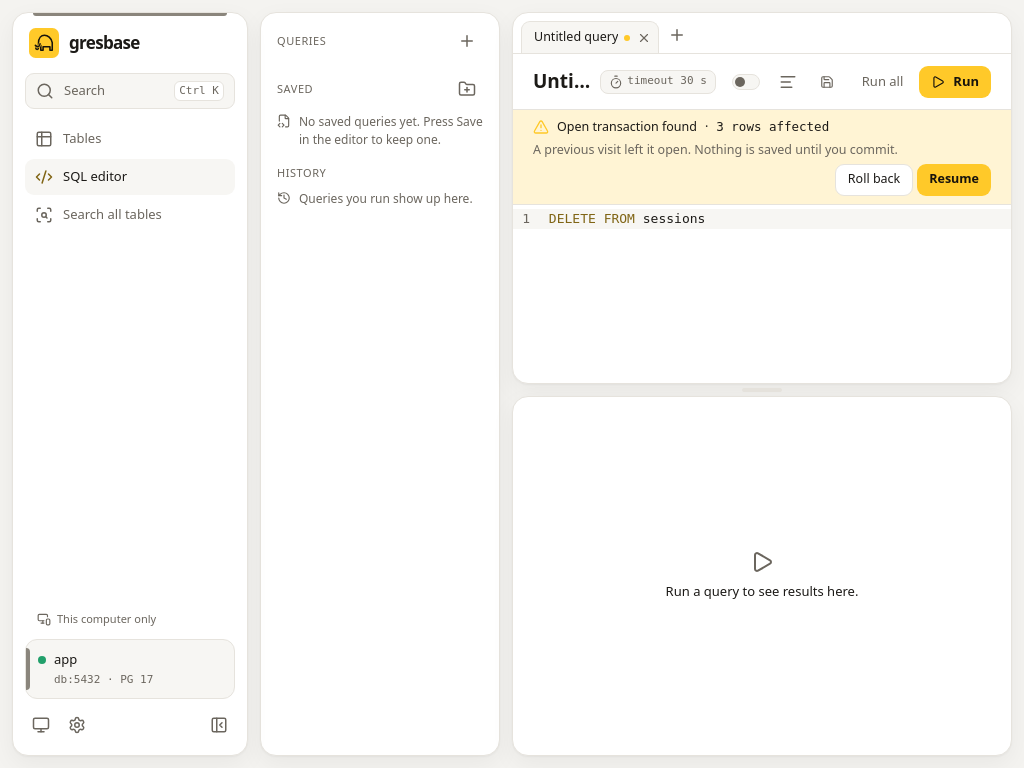
Test: leaving and coming back › offers a transaction left open and rolls it back
Expected: the message "Open transaction found" shows "3 rows affected", [716,119,829,134]
Click the button "Roll back". click: (874, 180)
box: [835,164,913,196]
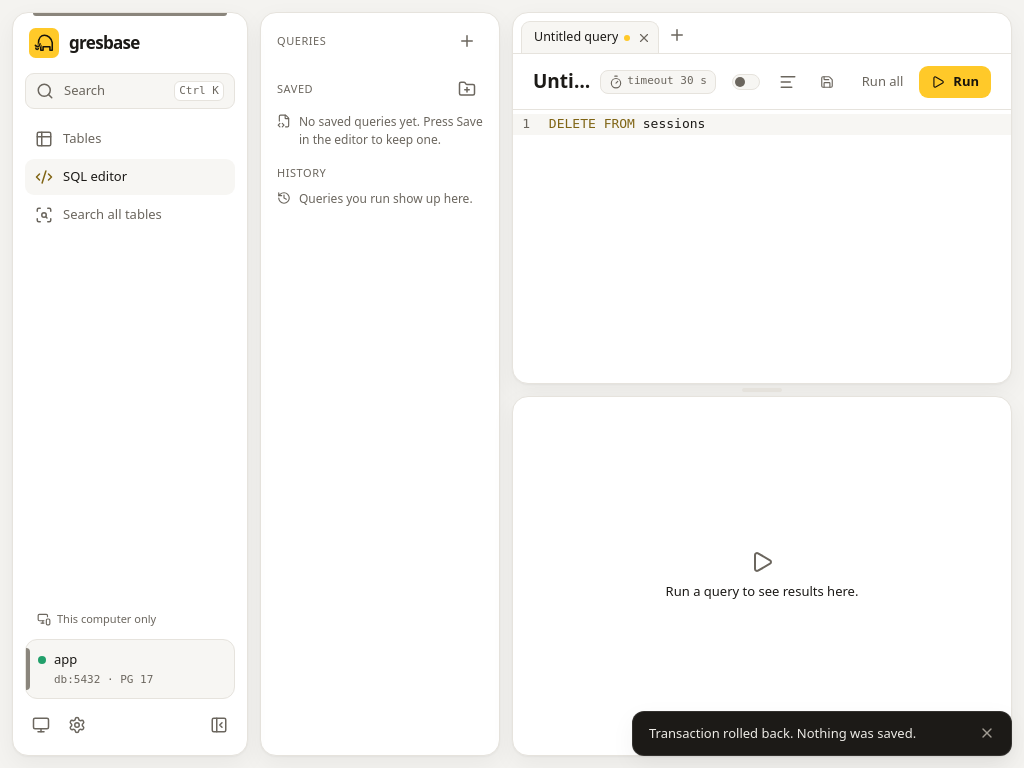
Expected: the text "Open transaction found" is gone
